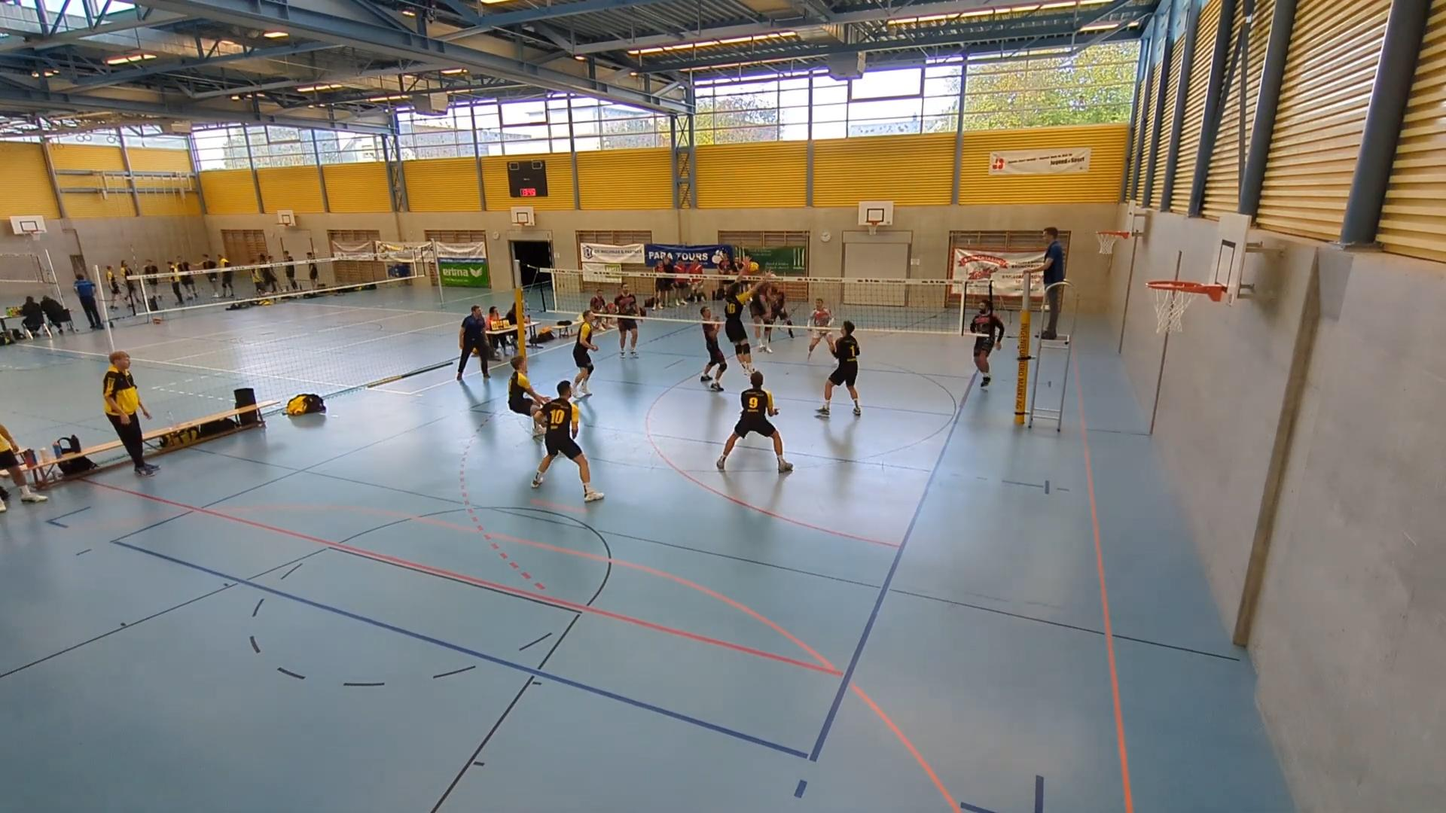Attack: (753, 258, 799, 356)
Player: (532, 381, 603, 501), (715, 371, 793, 472), (817, 320, 861, 416), (508, 355, 547, 438), (970, 301, 1005, 386), (700, 306, 727, 391), (573, 310, 597, 397), (764, 285, 793, 352), (614, 284, 639, 357), (807, 297, 832, 358)
Set: (725, 274, 783, 386)
ball: (742, 262, 762, 273)
